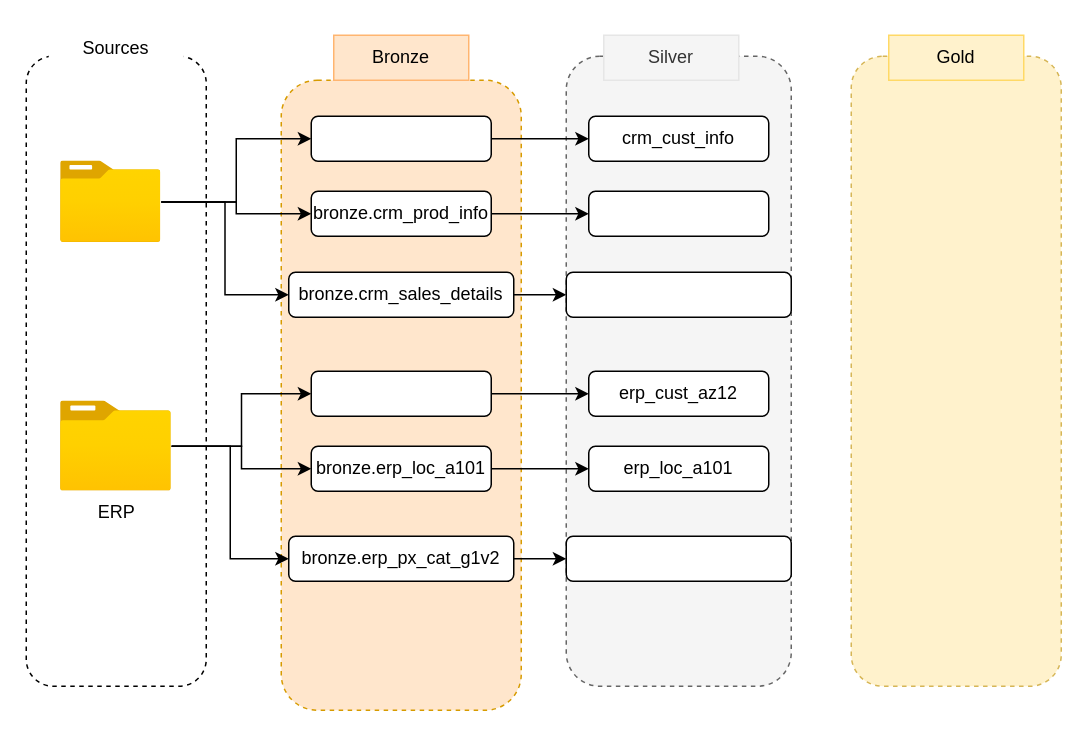
This 1088x737 diagram has some shape labels left out. The shapes that lost their labels are listed below. From the top down, each one's centre as x and y in pixels, then its label:
(400,138): bronze.crm_cust_info
(110,201): CRM
(678,213): crm_prod_info
(678,294): crm_sales_details
(400,393): bronze.erp_cust_az12
(678,558): erp_px_cat_g1v2
